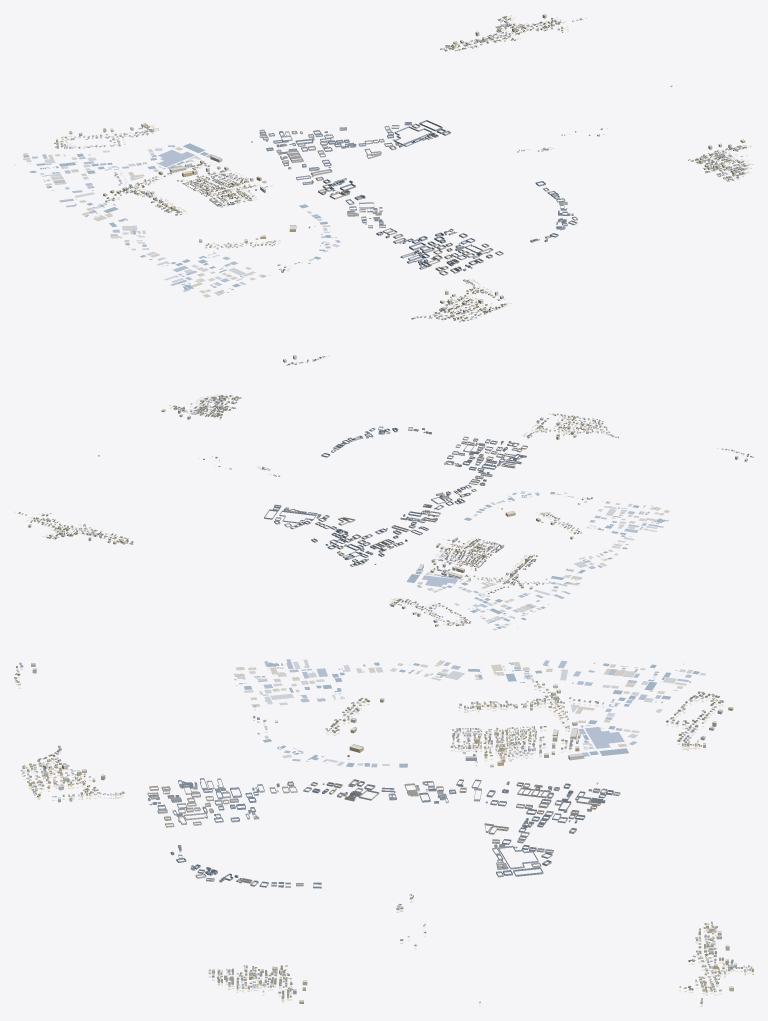
3 views of the same model, one above another, from view 1: azimuth 30°, elevation 25°; view 2: azimuth 150°, elevation 25°; view 3: azimuth 270°, elevation 25° (orthographic). The views are drawn at different scales.
Visible parts, largest first — view 1: roof_zinc, factory, house, apartment; view 2: roof_zinc, factory, house, apartment; view 3: roof_zinc, factory, house, apartment, roof_flat.
Part boxes in pixels (box(x1,y1,x2,y2)): roof_zinc: box(14, 15, 753, 364); factory: box(251, 120, 577, 275); house: box(54, 16, 748, 365); apartment: box(69, 14, 745, 362); roof_zinc: box(14, 394, 748, 630); factory: box(264, 426, 527, 566); house: box(18, 395, 753, 626); apartment: box(28, 397, 747, 626); roof_zinc: box(14, 659, 753, 1006); factory: box(147, 778, 620, 888); house: box(14, 662, 753, 1003); apartment: box(31, 663, 736, 1003); roof_flat: box(31, 663, 736, 1001).
Bounding box in the file's own units: 1.39e+08 × 726772 × 1.25e+08.
